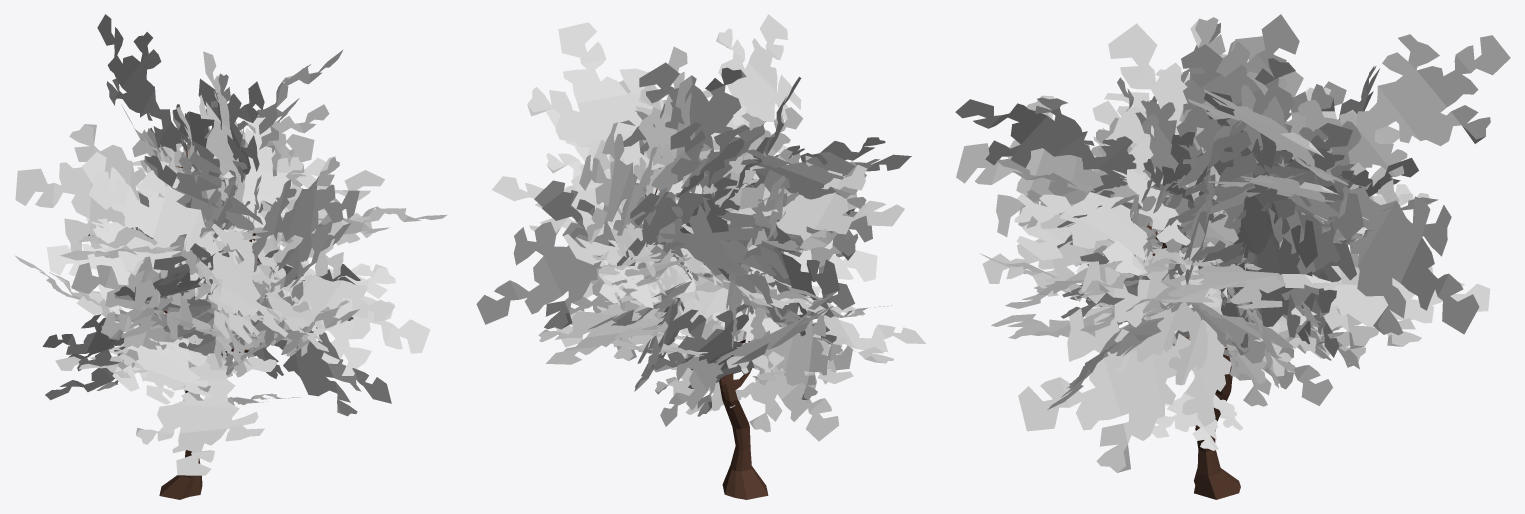
File: Bush 2.fbx
The picture shows the model from 3 angles, left to right: view 1: azimuth 30°, elevation 25°; view 2: azimuth 150°, elevation 25°; view 3: azimuth 270°, elevation 25°; orthographic projection. The views are drawn at different scales.
Visible parts, largest first — view 1: Cube|Tree Branch|Dupli|82, Cube|Tree Branch|Dupli|5, Cube|Tree Branch|Dupli|10, Cube|Tree Branch|Dupli|13, Cube|Tree Branch|Dupli|65, Cube|Tree Branch|Dupli|72, Cube|Tree Branch|Dupli|17, Cube|Tree Branch|Dupli|64, Cube|Tree Branch|Dupli|29, Cube|Tree Branch|Dupli|23, Cube|Tree Branch|Dupli|66, Cube|Tree Branch|Dupli|36 (+35 smaller); view 2: Cube|Tree Branch|Dupli|74, Cube|Tree Branch|Dupli|71, Cube|Tree Branch|Dupli|67, Cube|Tree Branch|Dupli|68, Cube|Tree Branch|Dupli|13, Cube|Tree Branch|Dupli|10, Cube|Tree Branch|Dupli|72, Cube|Tree Branch|Dupli|88, Cube|Tree Branch|Dupli|58, Cube|Tree Branch|Dupli|41, Cube|Tree Branch|Dupli|77, Cube|Tree Branch|Dupli|5 (+44 smaller); view 3: Cube|Tree Branch|Dupli|64, Cube|Tree Branch|Dupli|72, Cube|Tree Branch|Dupli|71, Cube|Tree Branch|Dupli|70, Cube|Tree Branch|Dupli|67, Cube|Tree Branch|Dupli|13, Cube|Tree Branch|Dupli|95, Cube|Tree Branch|Dupli|65, Cube|Tree Branch|Dupli|23, Cube|Tree Branch|Dupli|73, Cube|Tree Branch|Dupli|55, Cube|Tree Branch|Dupli|2 (+41 smaller).
Part boxes in pixels (x1,y1,x2,y2): Cube|Tree Branch|Dupli|82: [136, 355, 276, 475]; Cube|Tree Branch|Dupli|5: [89, 161, 243, 299]; Cube|Tree Branch|Dupli|10: [15, 124, 184, 251]; Cube|Tree Branch|Dupli|13: [252, 156, 359, 272]; Cube|Tree Branch|Dupli|65: [198, 224, 288, 343]; Cube|Tree Branch|Dupli|72: [97, 14, 189, 151]; Cube|Tree Branch|Dupli|17: [258, 258, 430, 375]; Cube|Tree Branch|Dupli|64: [253, 327, 391, 416]; Cube|Tree Branch|Dupli|29: [270, 261, 395, 334]; Cube|Tree Branch|Dupli|23: [144, 152, 262, 232]; Cube|Tree Branch|Dupli|66: [213, 115, 304, 241]; Cube|Tree Branch|Dupli|36: [120, 338, 222, 404]; Cube|Tree Branch|Dupli|74: [527, 22, 702, 203]; Cube|Tree Branch|Dupli|71: [476, 173, 646, 329]; Cube|Tree Branch|Dupli|67: [623, 62, 764, 166]; Cube|Tree Branch|Dupli|68: [727, 164, 904, 250]; Cube|Tree Branch|Dupli|13: [708, 14, 801, 179]; Cube|Tree Branch|Dupli|10: [671, 197, 788, 303]; Cube|Tree Branch|Dupli|72: [579, 122, 657, 243]; Cube|Tree Branch|Dupli|88: [750, 307, 852, 400]; Cube|Tree Branch|Dupli|58: [538, 281, 722, 364]; Cube|Tree Branch|Dupli|41: [726, 314, 843, 441]; Cube|Tree Branch|Dupli|77: [653, 304, 754, 388]; Cube|Tree Branch|Dupli|5: [741, 149, 866, 209]; Cube|Tree Branch|Dupli|64: [1018, 288, 1231, 472]; Cube|Tree Branch|Dupli|72: [1297, 34, 1510, 176]; Cube|Tree Branch|Dupli|71: [1321, 120, 1479, 335]; Cube|Tree Branch|Dupli|70: [1016, 169, 1190, 275]; Cube|Tree Branch|Dupli|67: [1145, 14, 1299, 238]; Cube|Tree Branch|Dupli|13: [955, 97, 1136, 197]; Cube|Tree Branch|Dupli|95: [1081, 248, 1208, 385]; Cube|Tree Branch|Dupli|65: [956, 95, 1136, 242]; Cube|Tree Branch|Dupli|23: [1105, 23, 1227, 275]; Cube|Tree Branch|Dupli|73: [1176, 44, 1328, 156]; Cube|Tree Branch|Dupli|55: [1161, 259, 1332, 308]; Cube|Tree Branch|Dupli|2: [1219, 202, 1317, 347].
Size of the model in its own units: 69.97 by 79.05 by 79.26.
